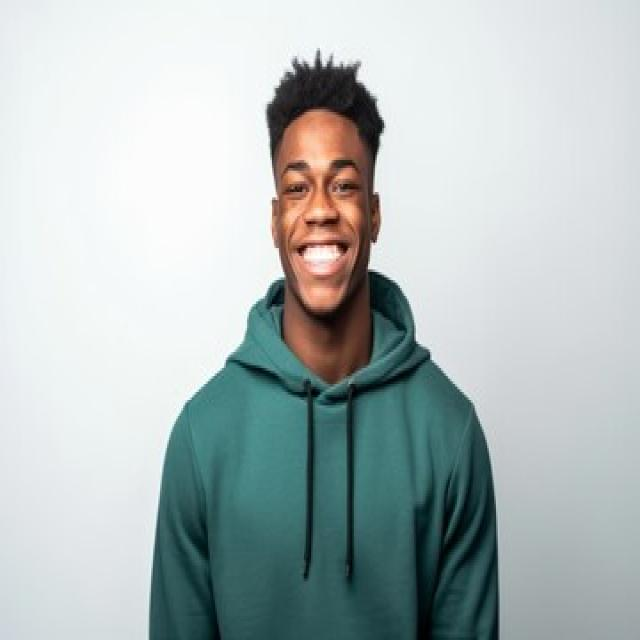Nonhelmet: (261, 48, 386, 317)
